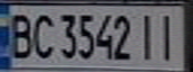2: (112, 10, 136, 61)
3: (54, 9, 78, 60)
4: (93, 10, 115, 61)
5: (75, 10, 96, 60)
B: (3, 9, 36, 61)
C: (30, 9, 57, 61)
I: (154, 9, 184, 62), (136, 10, 160, 61)
